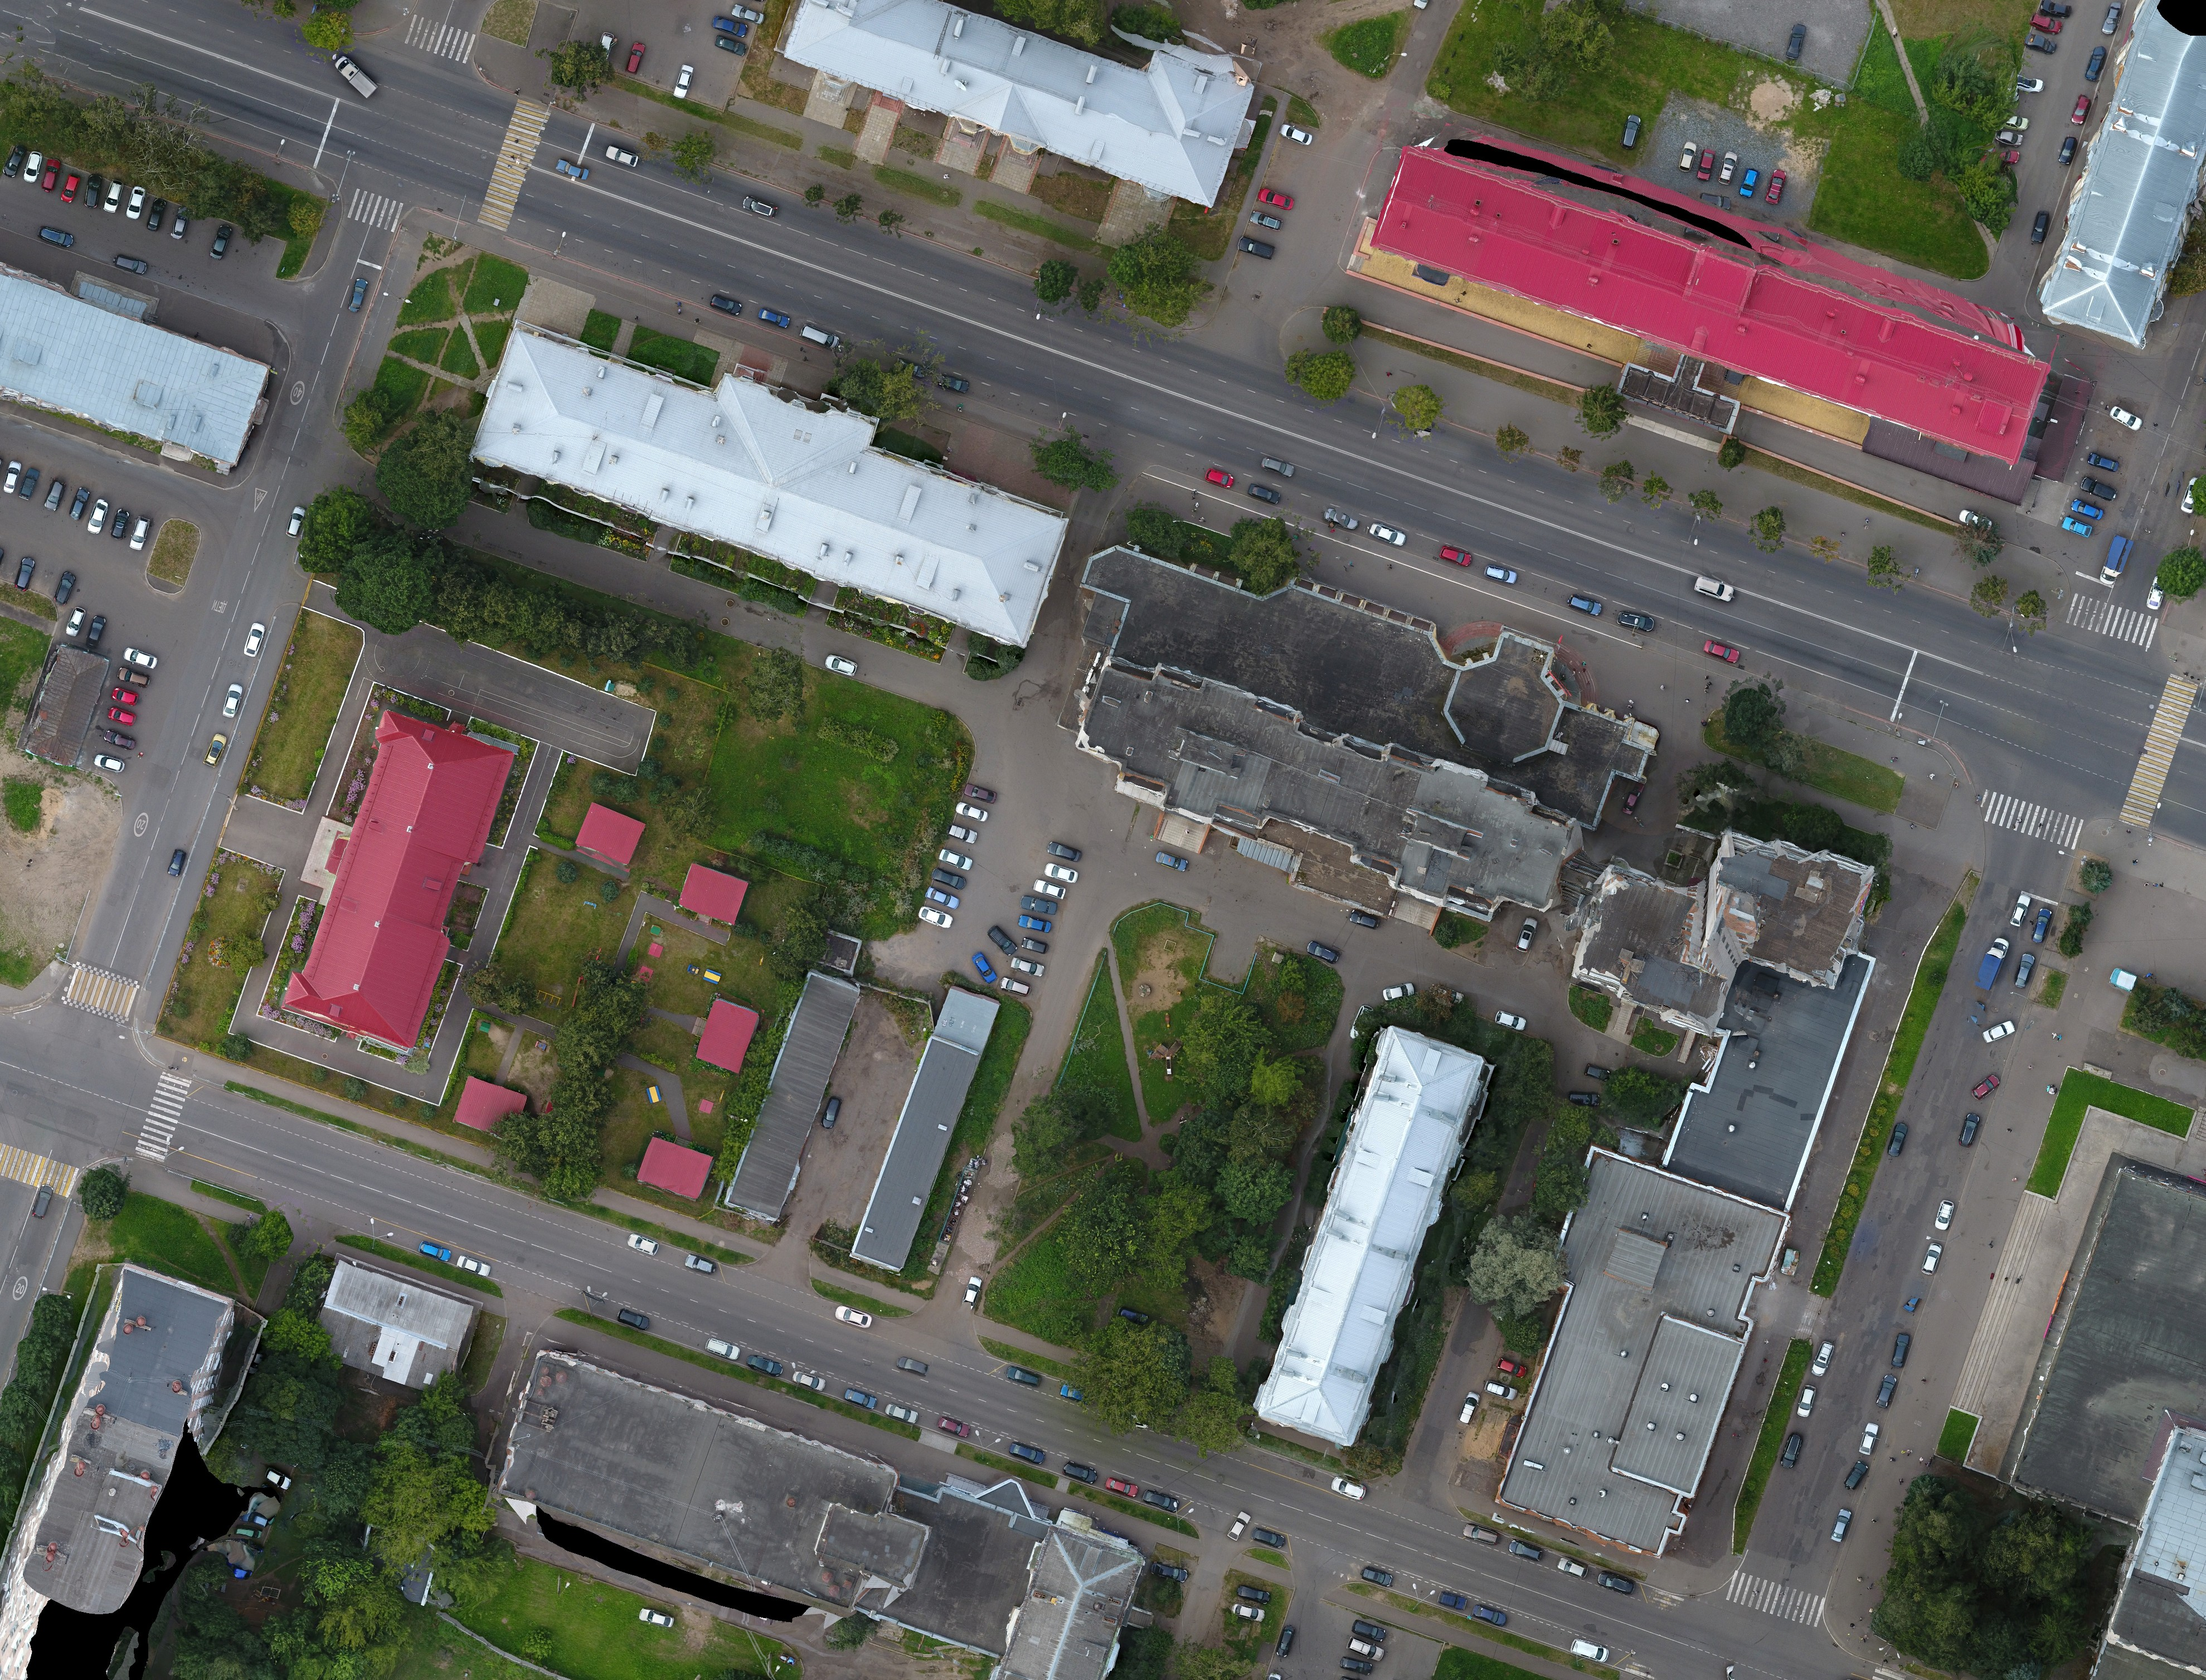build: (1493, 822, 1904, 1578), (1336, 138, 2051, 531), (1050, 512, 1661, 967), (491, 1345, 1147, 1680), (466, 307, 1075, 664), (764, 0, 1309, 215), (1246, 1011, 1511, 1454), (2014, 1151, 2206, 1680), (0, 1251, 261, 1634), (289, 706, 531, 1054), (2028, 0, 2201, 358), (0, 258, 265, 471), (856, 969, 999, 1290), (718, 960, 858, 1221), (304, 1248, 485, 1382), (630, 1129, 727, 1205), (450, 1073, 540, 1149), (692, 995, 766, 1076), (679, 861, 748, 928), (577, 799, 642, 870)
